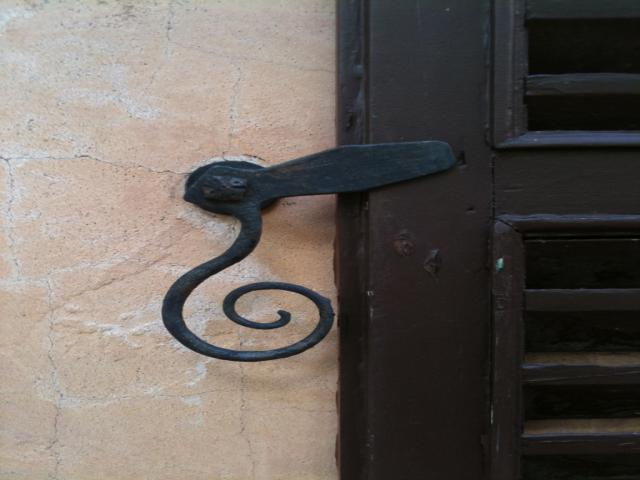Door-handle: (156, 139, 459, 365)
